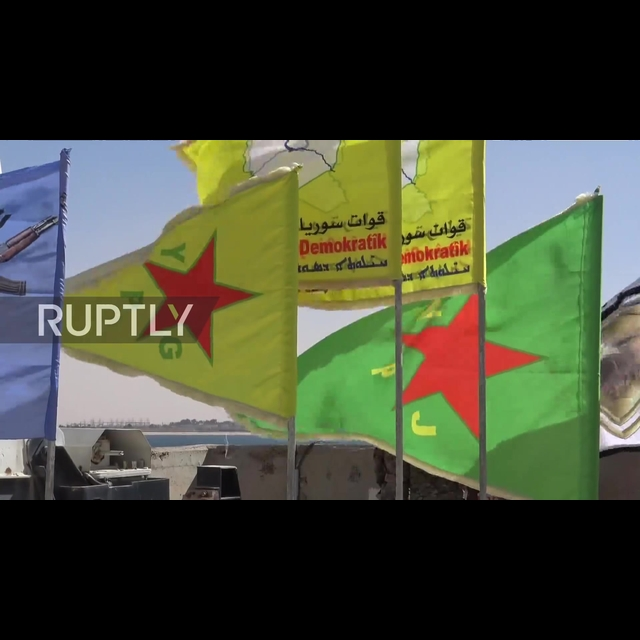YPJ: (357, 305, 567, 444)
